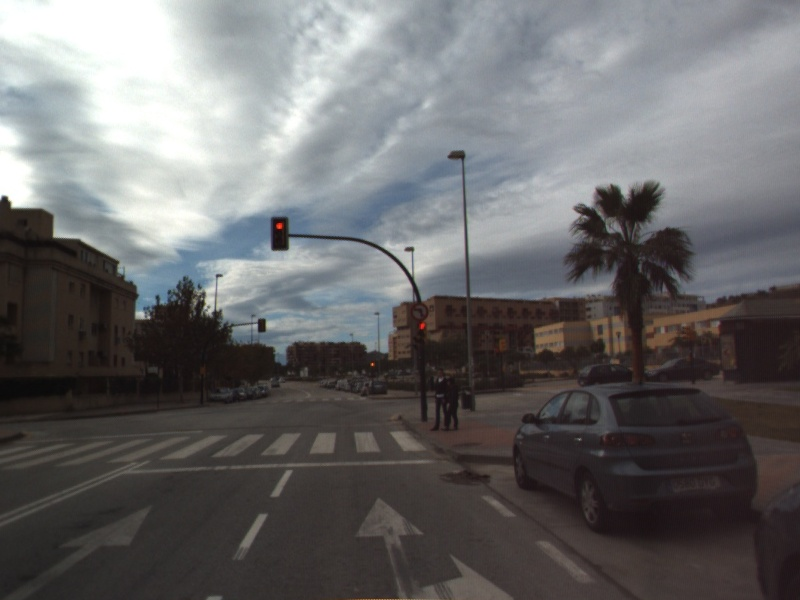STRAIGHT: (1, 503, 155, 600)
STRAIGHT_RIGHT: (352, 495, 516, 600)
